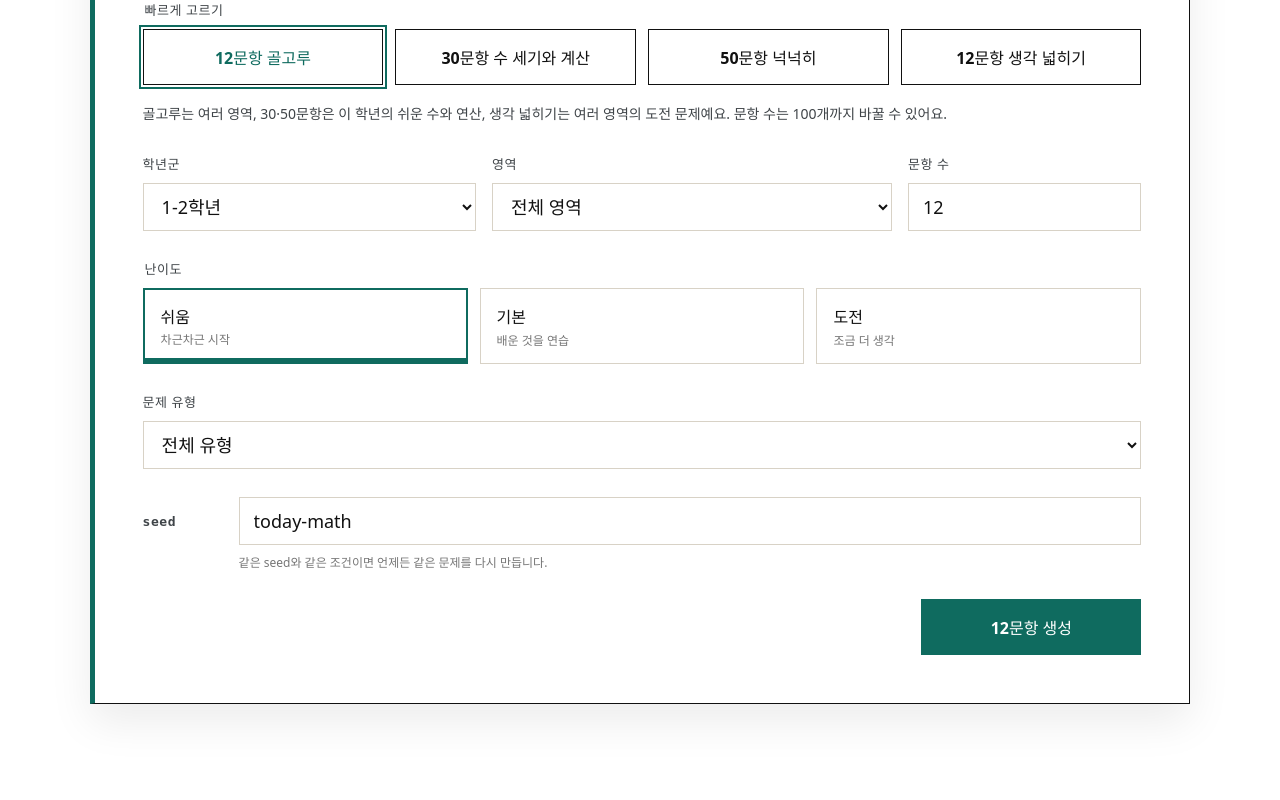
Test: problem selection › keeps the prior worksheet and exact requested count on a capacity conflict without retrying
(page scrolled)
Click the button "12문항 생성" at {"x": 1031, "y": 627}, box [921,599,1141,655]
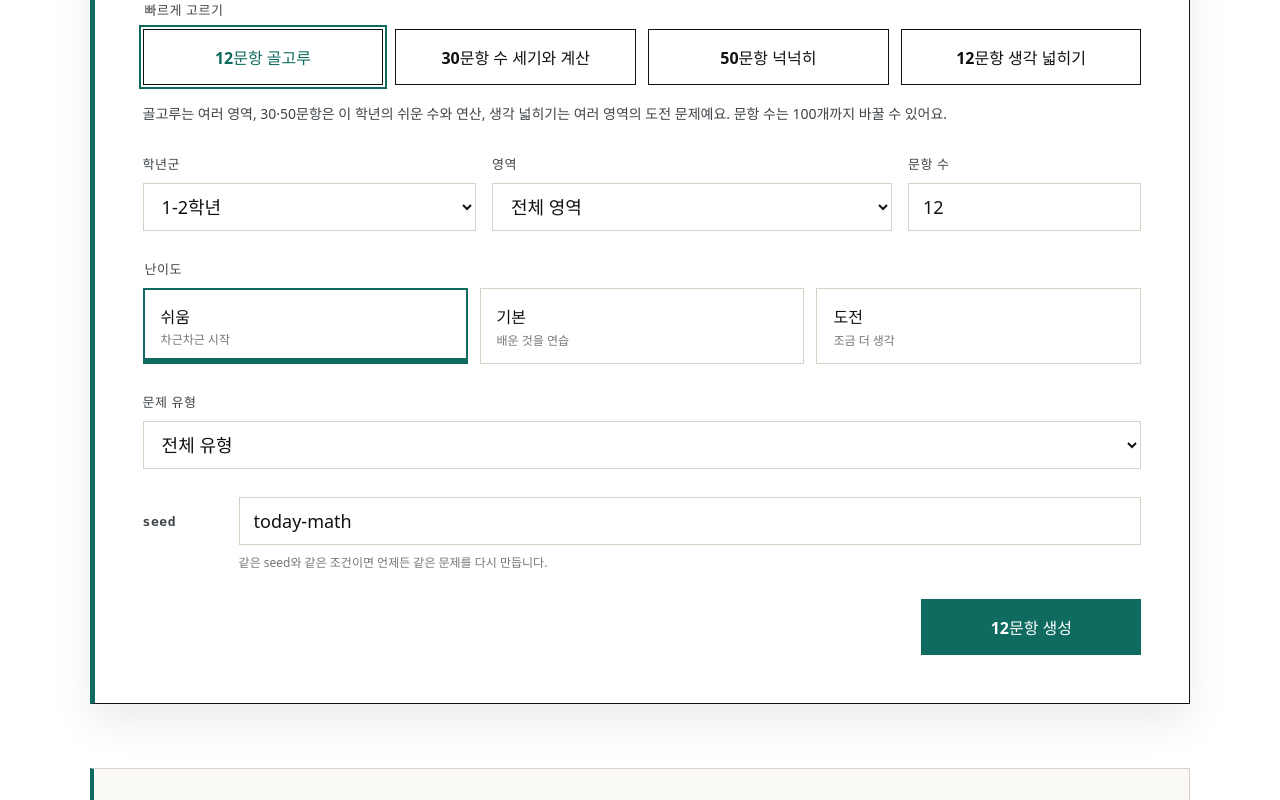
Replace the text in the number field labelled "문항 수" with "17" at {"x": 1025, "y": 207}, box [908,183,1141,231]
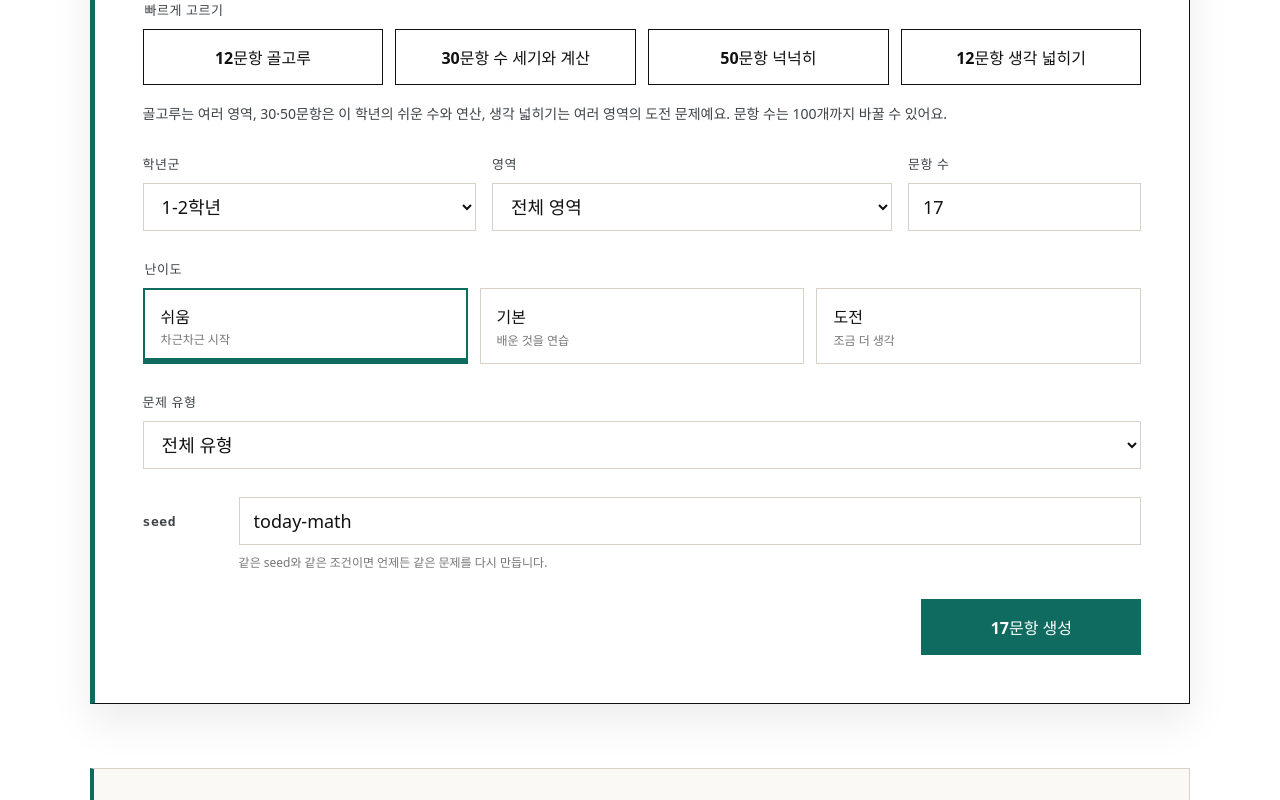
Select "덧셈" in the dropdown labelled "문제 유형" at {"x": 642, "y": 445}, box [143,421,1141,469]
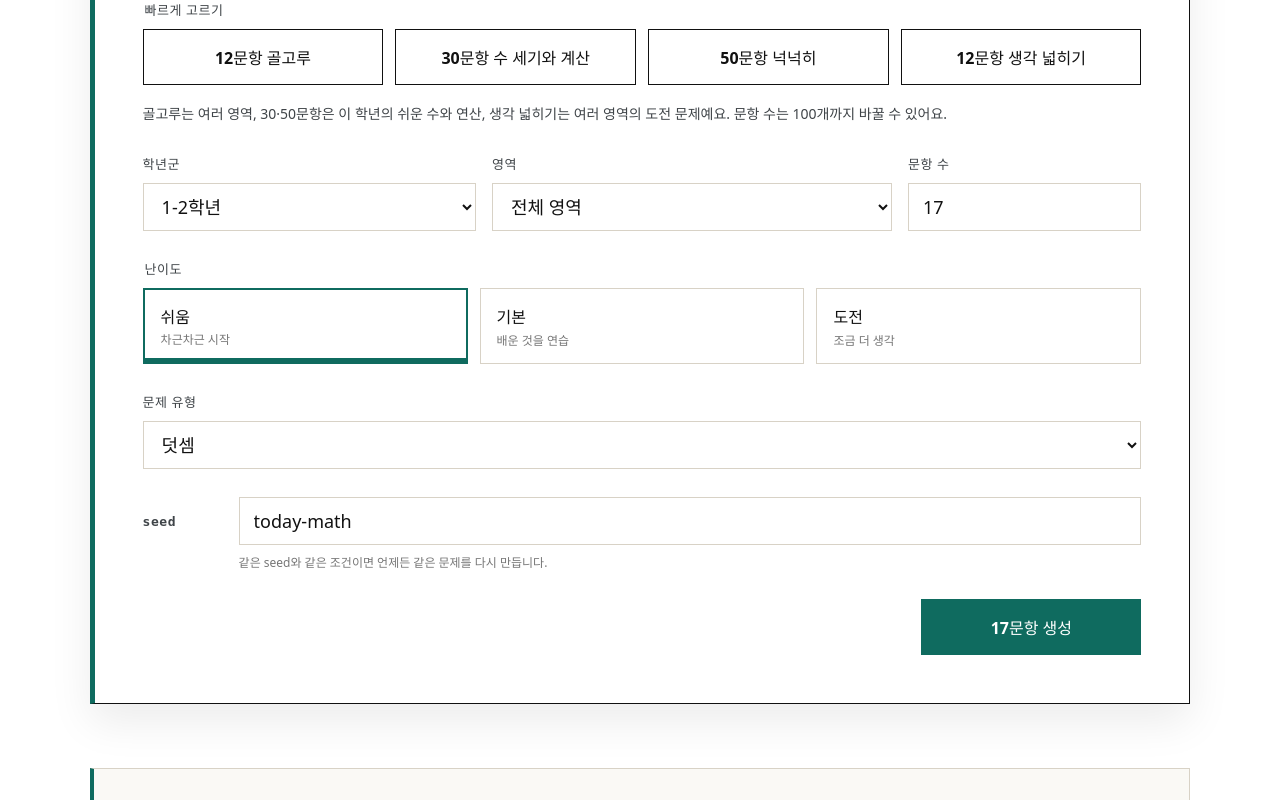
Click the button "17문항 생성" at {"x": 1031, "y": 627}, box [921,599,1141,655]
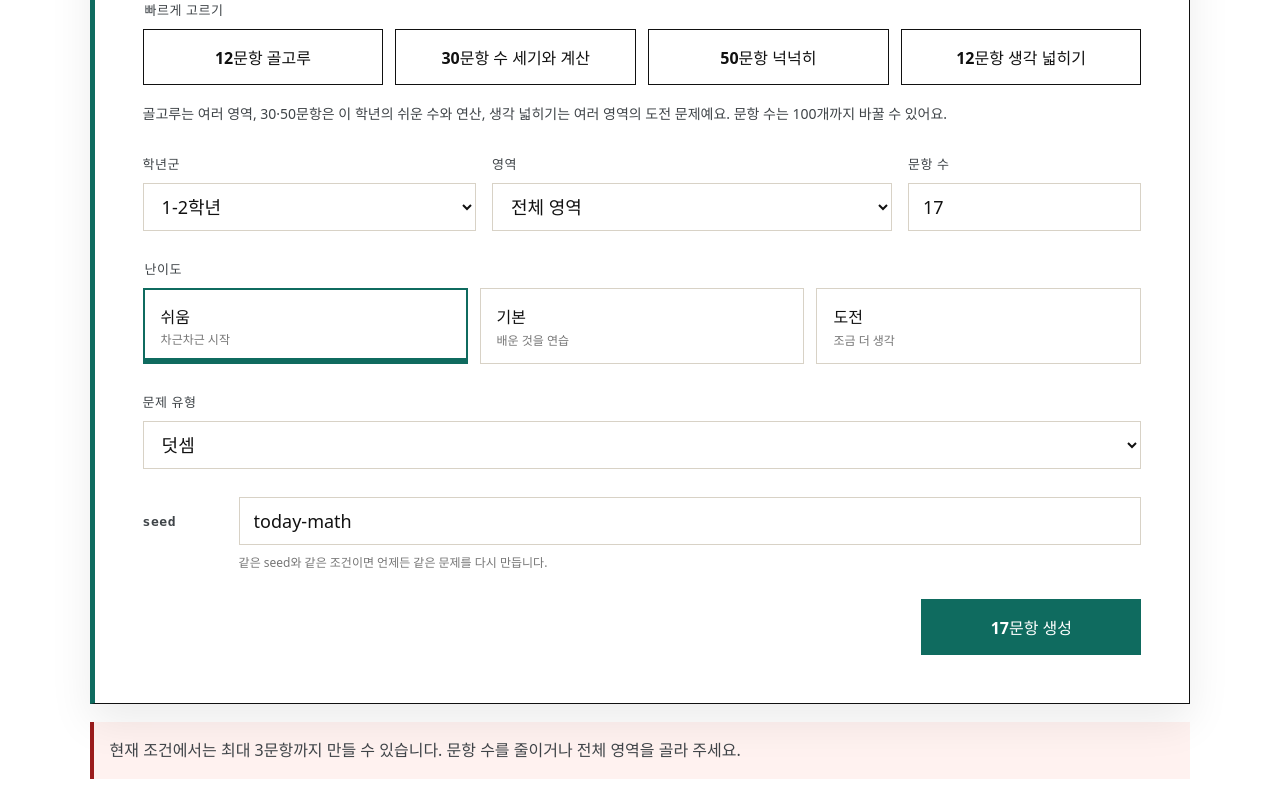
Expected: the message "현재 조건에서는 최대 3문항까지 만들 수 있습니다. 문항 수를 줄이거나 전체 영역을 골라 주세요." is shown, [90,722,1190,779]
